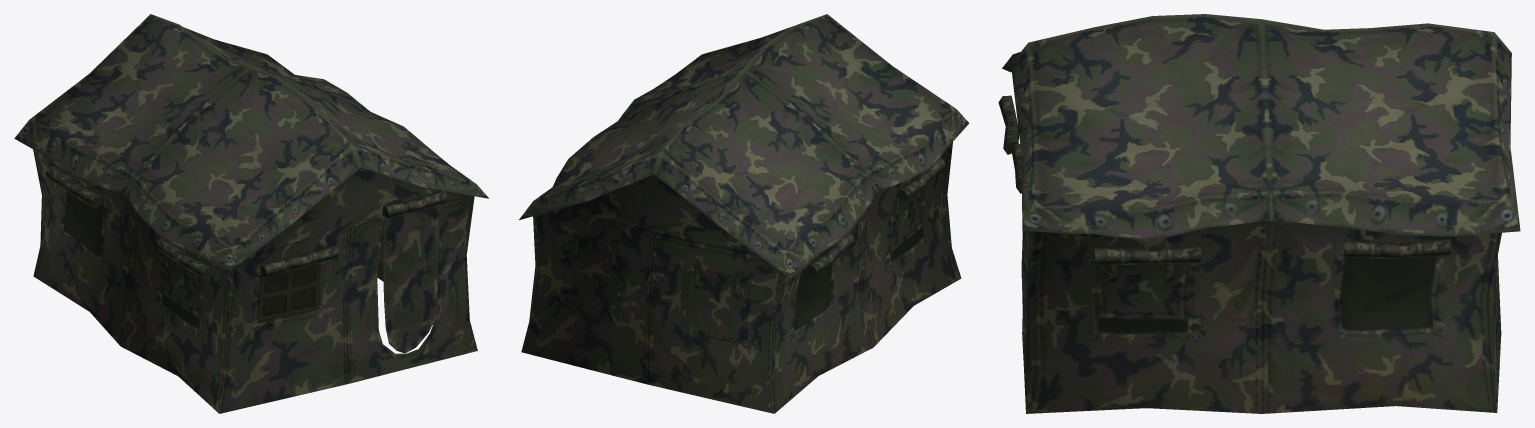
Rendered from Stage-binan-zhangpeng2.FBX.
3 renders of one model, left to right at view 1: azimuth 30°, elevation 25°; view 2: azimuth 150°, elevation 25°; view 3: azimuth 270°, elevation 25°, orthographic. The views are drawn at different scales.
Visible parts, largest first — view 1: ding; view 2: ding; view 3: ding.
Part boxes in pixels (x1,y1,x2,y2): ding: (14,14,489,413); ding: (519,14,969,413); ding: (998,14,1520,413).
Size of the model in its own units: 4.26 by 3.54 by 5.24.
1 material, 1 textured.
